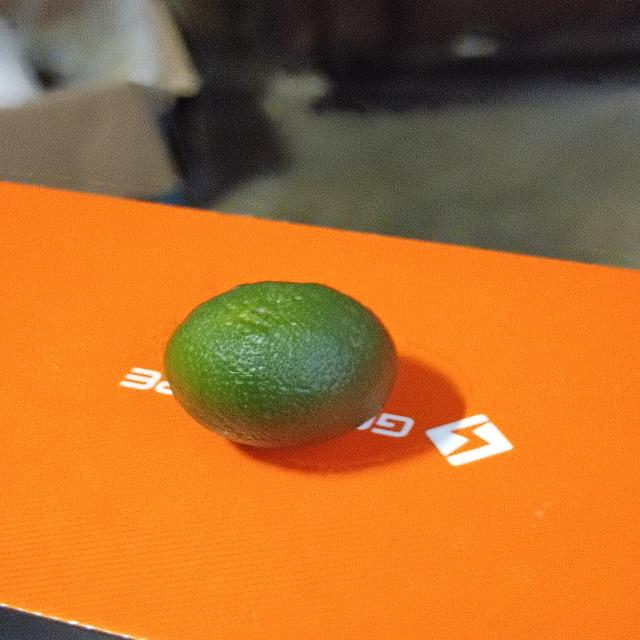heathy: (163, 274, 410, 452)
